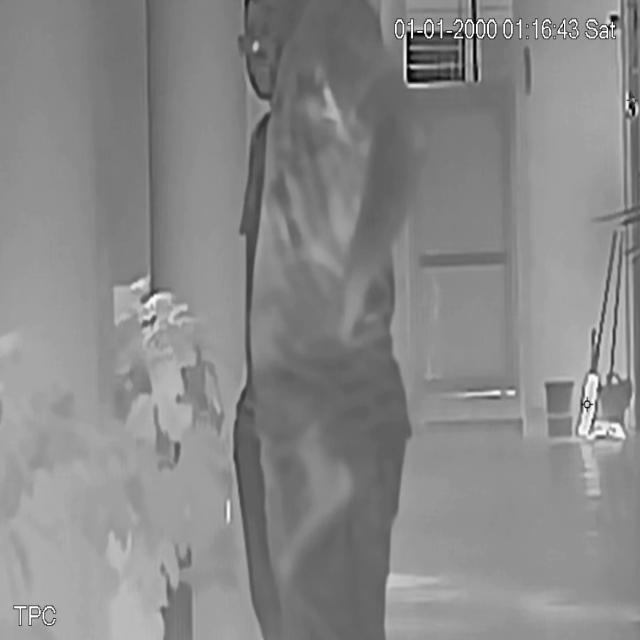Weapon: (257, 412, 358, 603)
